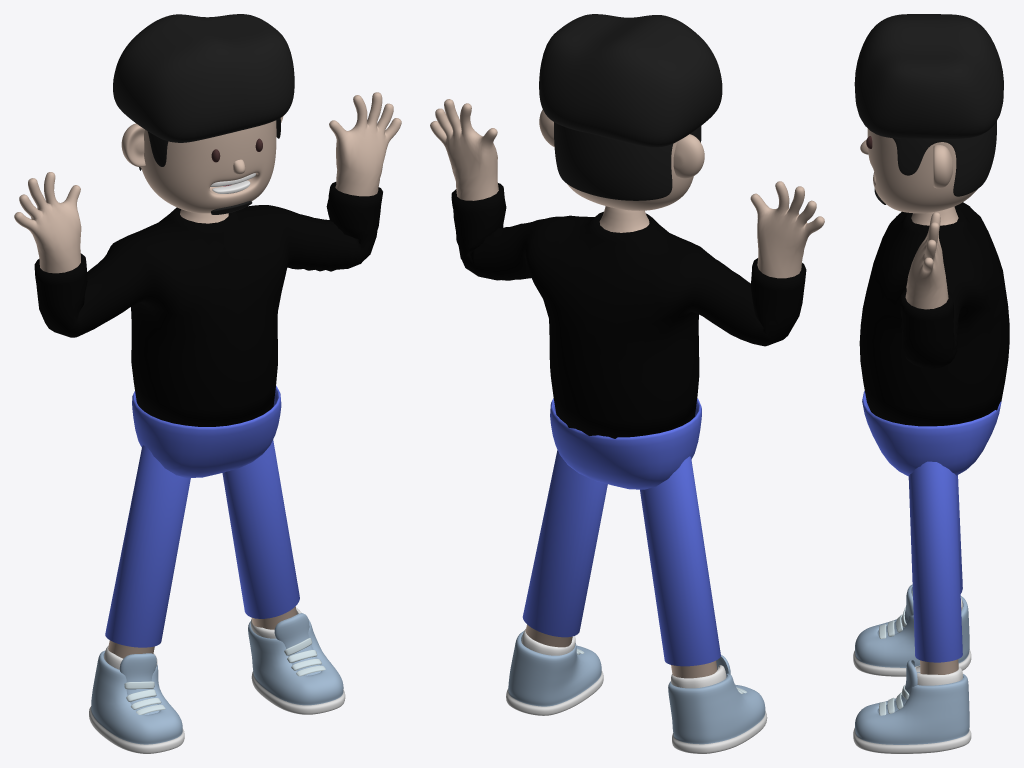
File: rig.gltf
3 views of the same model, side by side, from view 1: azimuth 30°, elevation 25°; view 2: azimuth 150°, elevation 25°; view 3: azimuth 270°, elevation 25° (orthographic). The views are drawn at different scales.
Visible parts, largest first — view 1: shirt, Cylinder.001, Cube.003, Shoe, body.002, face, pant, Cylinder; view 2: shirt, Cylinder.001, Cube.003, Shoe, body.002, pant, hair, Cylinder, face; view 3: shirt, Cube.003, Shoe, Cylinder.001, pant, face, hair, body.002, Cylinder.
Boxes of the visible parts, <box> form: shirt: <box>34,182,382,426</box>; Cylinder.001: <box>105,440,299,658</box>; Cube.003: <box>113,14,294,142</box>; Shoe: <box>89,607,345,753</box>; body.002: <box>14,92,401,273</box>; face: <box>141,120,276,213</box>; pant: <box>132,385,281,478</box>; Cylinder: <box>121,116,283,167</box>; shirt: <box>451,183,806,438</box>; Cylinder.001: <box>522,450,720,678</box>; Cube.003: <box>539,14,722,147</box>; Shoe: <box>506,629,767,753</box>; body.002: <box>430,99,824,278</box>; pant: <box>550,398,701,489</box>; hair: <box>554,122,701,200</box>; Cylinder: <box>539,109,704,178</box>; face: <box>567,141,693,210</box>; shirt: <box>859,202,1009,426</box>; Cube.003: <box>854,14,1003,138</box>; Shoe: <box>853,584,971,753</box>; Cylinder.001: <box>908,461,962,674</box>; pant: <box>862,391,1001,476</box>; face: <box>867,128,977,213</box>; hair: <box>892,121,996,196</box>; body.002: <box>905,206,958,309</box>; Cylinder: <box>933,145,952,188</box>.
Size of the model in its own units: 1.83 by 3.08 by 0.6496.
